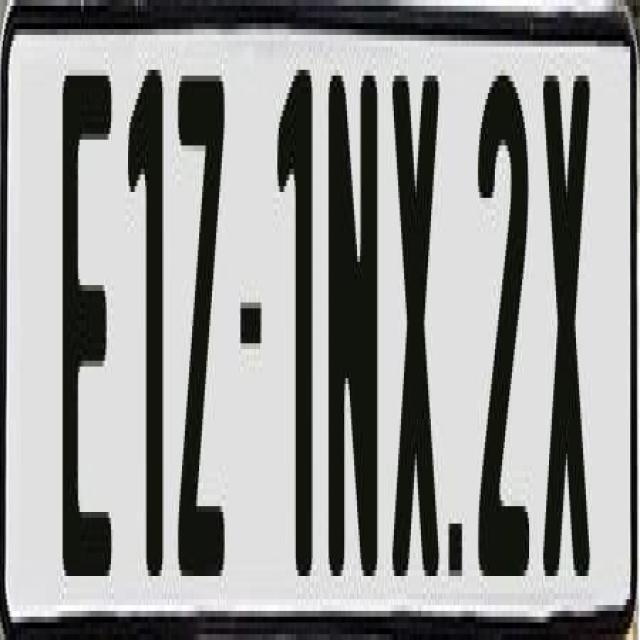1: (277, 52, 317, 588), (124, 58, 162, 570)
2: (473, 64, 528, 588)
E: (58, 64, 108, 582)
N: (326, 64, 376, 576)
X: (390, 76, 440, 612), (540, 58, 588, 594)
Z: (178, 76, 230, 576)
